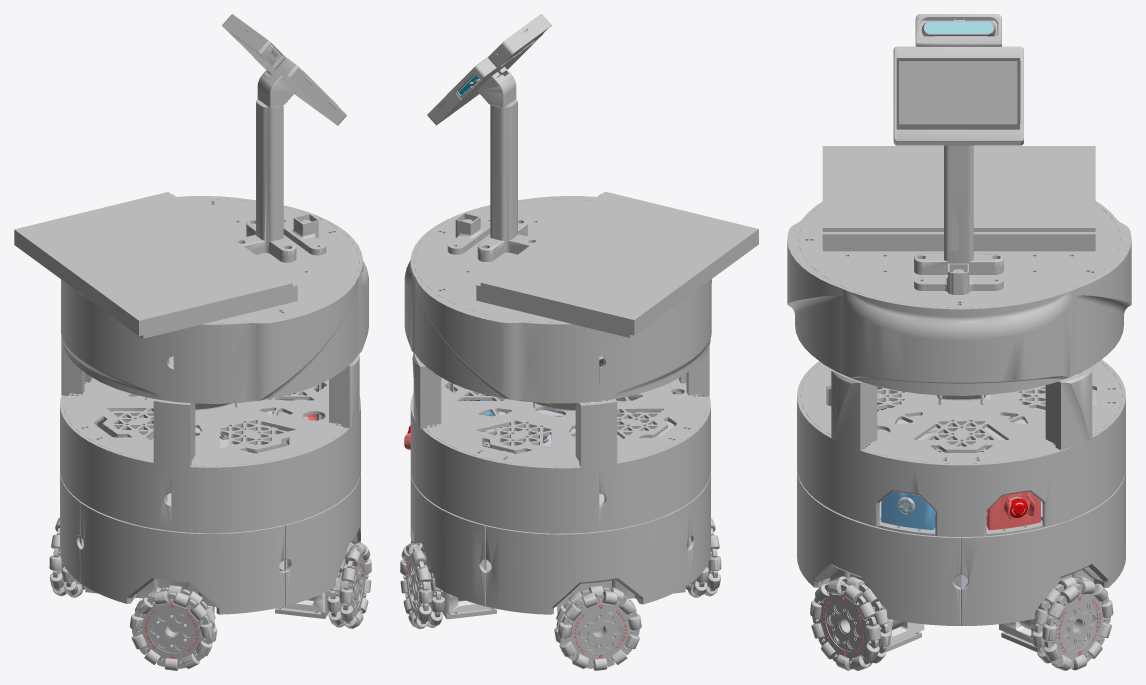
3 views of the same model, side by side, from view 1: azimuth 30°, elevation 25°; view 2: azimuth 150°, elevation 25°; view 3: azimuth 270°, elevation 25° (orthographic). The views are drawn at different scales.
Parts seen in each view (by area): view 1: 3DNEW MAIN 233; view 2: 3DNEW MAIN 233; view 3: 3DNEW MAIN 233.
Part boxes in pixels (x1,y1,x2,y2): 3DNEW MAIN 233: [14, 14, 371, 670]; 3DNEW MAIN 233: [400, 14, 758, 670]; 3DNEW MAIN 233: [787, 14, 1131, 670].
Bounding box in the file's own units: 45.97 × 92.31 × 46.
2 materials, 2 textured.
